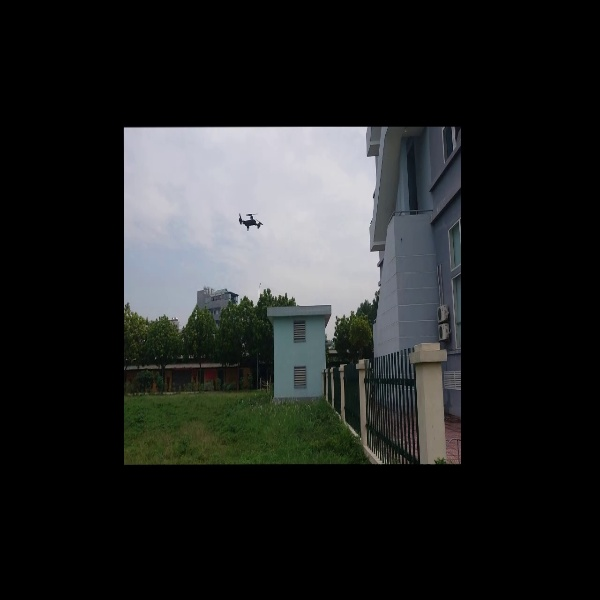drone: (232, 207, 274, 240)
